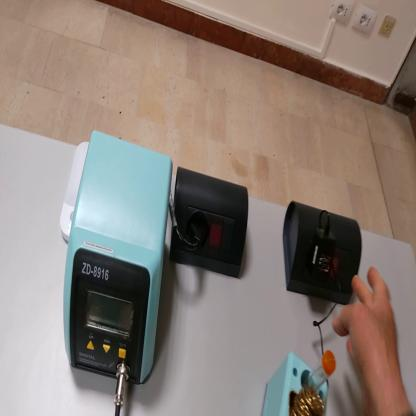hand: (333, 266, 402, 399)
socket: (170, 165, 249, 279), (284, 201, 365, 307)
welder base: (262, 348, 336, 414)
welder station: (65, 130, 175, 386)
